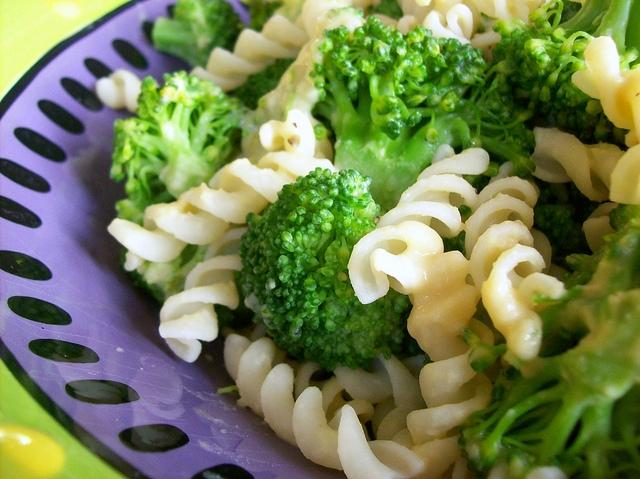broccoli: (456, 232, 640, 479), (232, 166, 418, 373), (308, 15, 487, 214), (492, 0, 640, 152), (110, 70, 252, 228), (531, 174, 614, 274), (151, 2, 247, 72), (128, 244, 208, 307)
